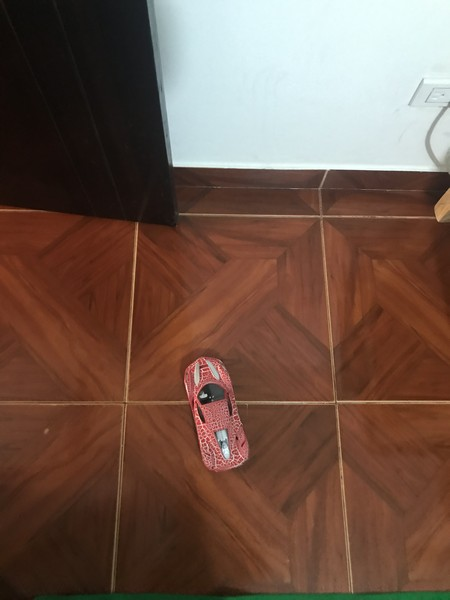RC: (182, 354, 253, 474)
